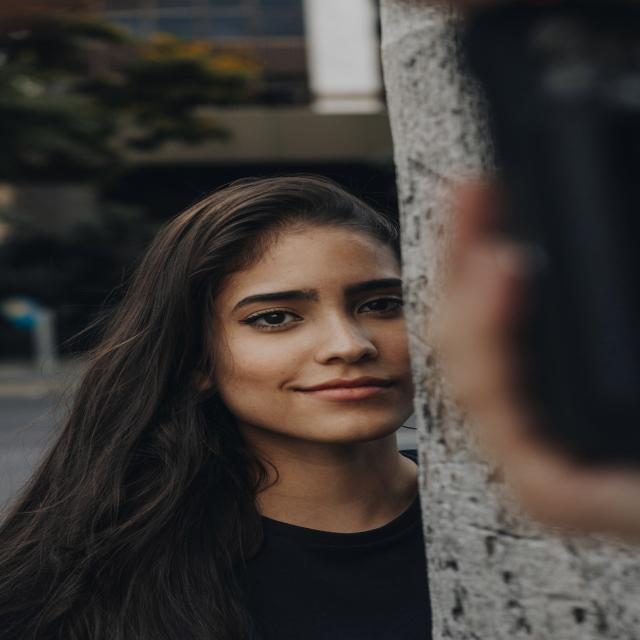adult: (0, 168, 417, 640)
